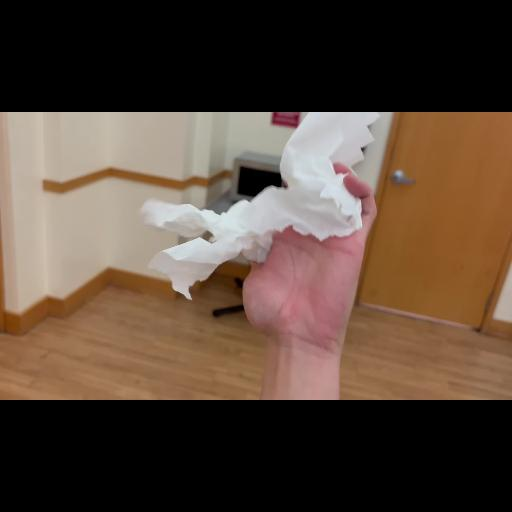napkin: (135, 112, 379, 302)
